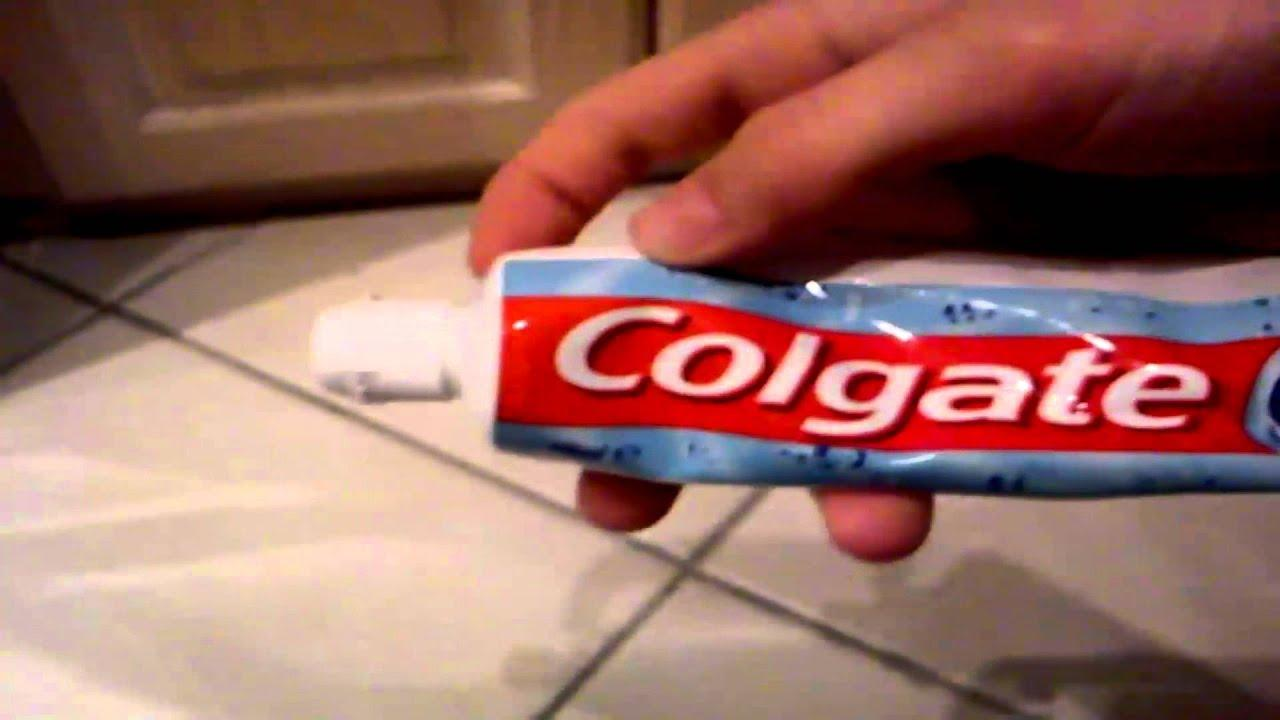toothpaste: (282, 210, 1280, 561)
